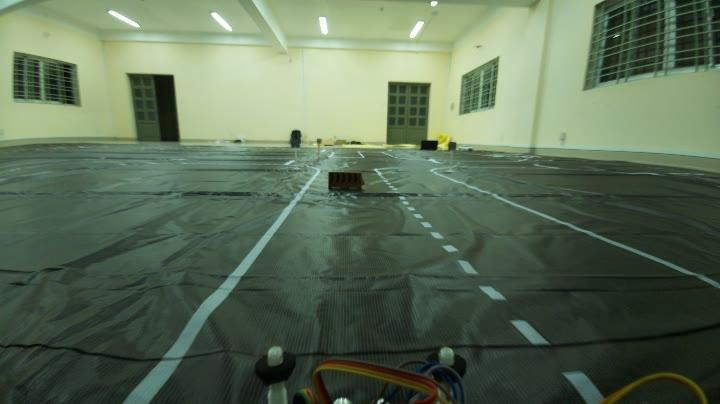roadblock: (325, 168, 369, 198)
